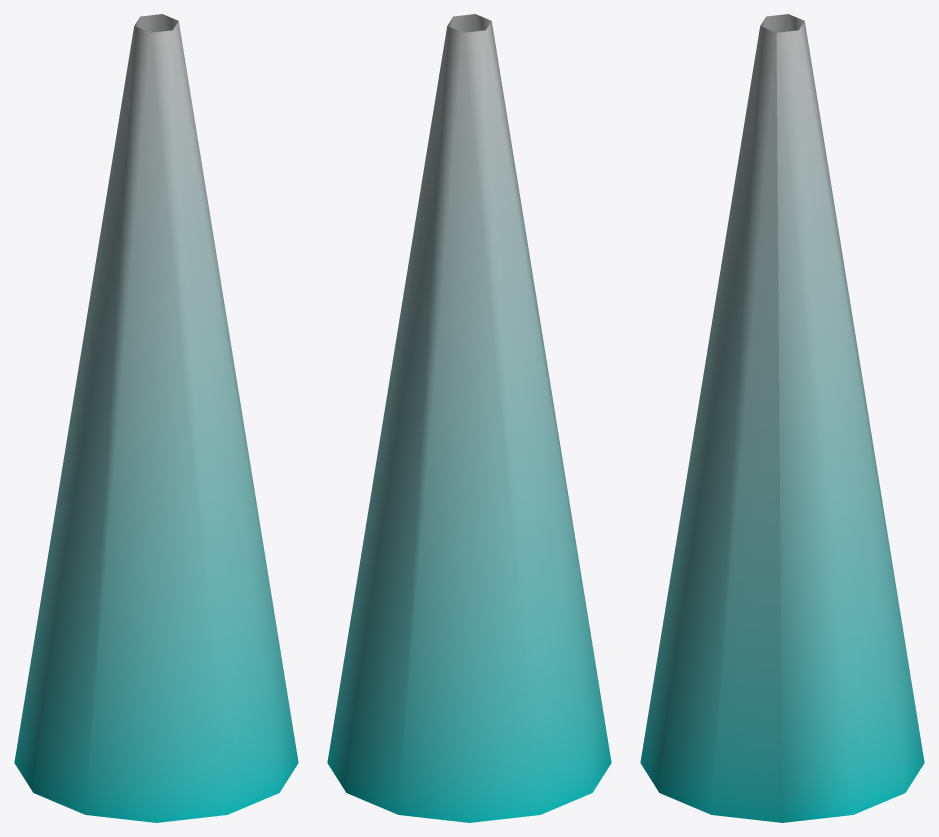
Rendered from mesh_Lightbeam.fbx.
3 renders of one model, left to right at view 1: azimuth 30°, elevation 25°; view 2: azimuth 150°, elevation 25°; view 3: azimuth 270°, elevation 25°, orthographic.
Visible parts, largest first — view 1: mesh_LightBeam; view 2: mesh_LightBeam; view 3: mesh_LightBeam.
Part boxes in pixels (x1,y1,x2,y2): mesh_LightBeam: [14, 14, 298, 822]; mesh_LightBeam: [327, 14, 611, 822]; mesh_LightBeam: [640, 14, 924, 822].
Size of the model in its own units: 3.04 by 8.73 by 3.04.
